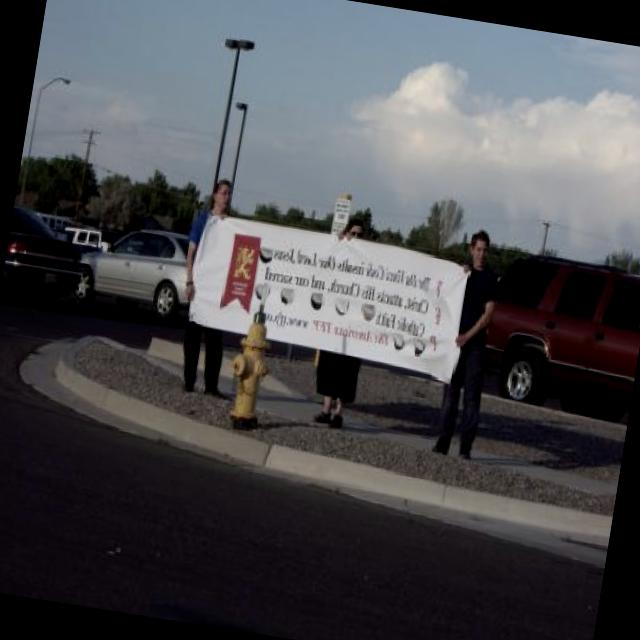Person: (432, 227, 508, 452), (165, 182, 242, 392), (309, 215, 383, 428)
